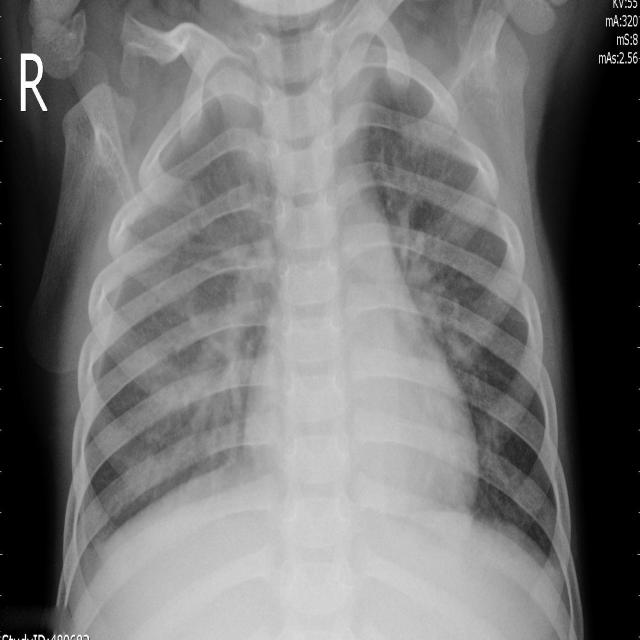low-pneumonia: (393, 199, 489, 382), (211, 241, 281, 457), (199, 78, 270, 198)
